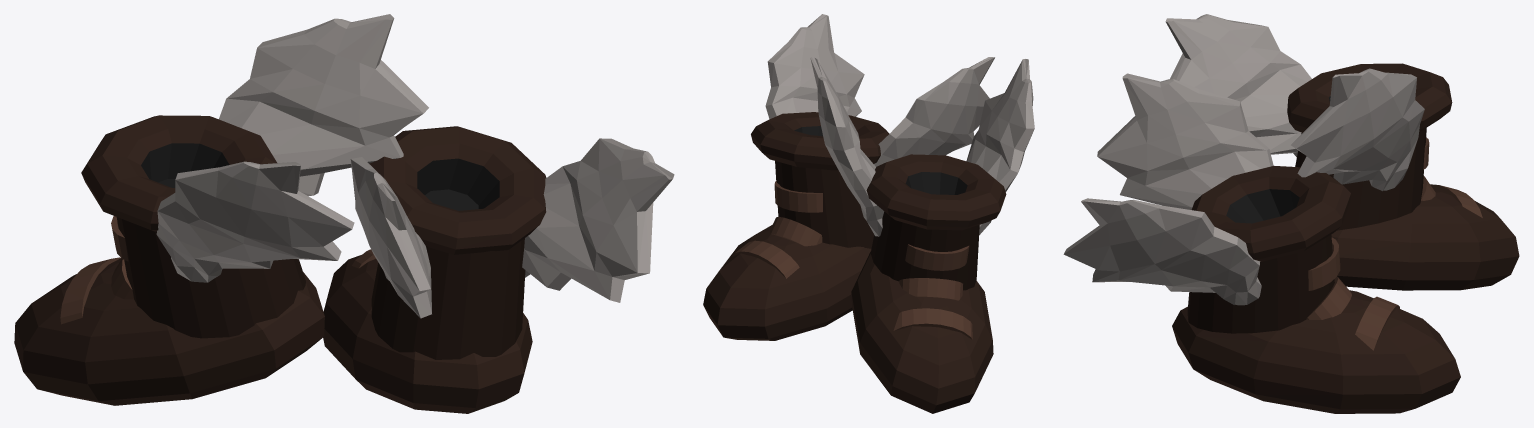
File: Boots03.fbx
3 renders of one model, left to right at view 1: azimuth 30°, elevation 25°; view 2: azimuth 150°, elevation 25°; view 3: azimuth 270°, elevation 25°, orthographic. The views are drawn at different scales.
Parts seen in each view (by area): view 1: WingBoots01; view 2: WingBoots01; view 3: WingBoots01.
Boxes of the visible parts, bbox=[...] form: WingBoots01: bbox=[14, 14, 674, 413]; WingBoots01: bbox=[703, 14, 1034, 413]; WingBoots01: bbox=[1063, 14, 1519, 413].
Size of the model in its own units: 0.2113 by 0.167 by 0.2257.
